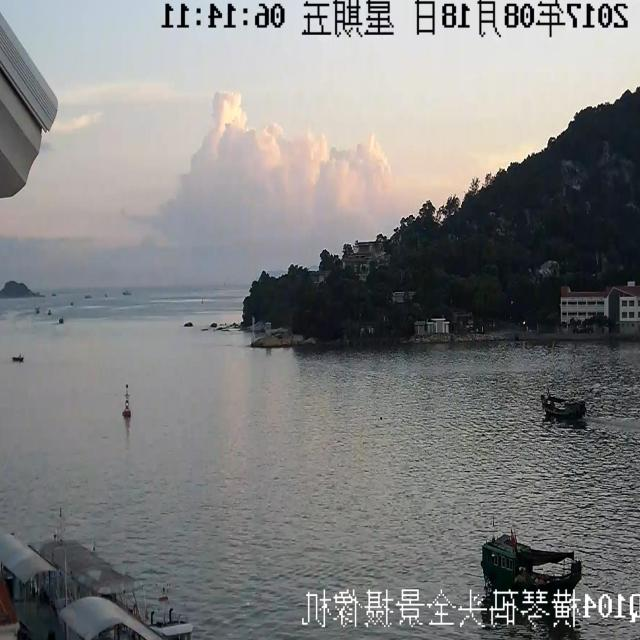buoy: (111, 382, 134, 444)
fishing boat: (464, 504, 603, 616), (514, 382, 584, 446), (0, 351, 26, 404)
